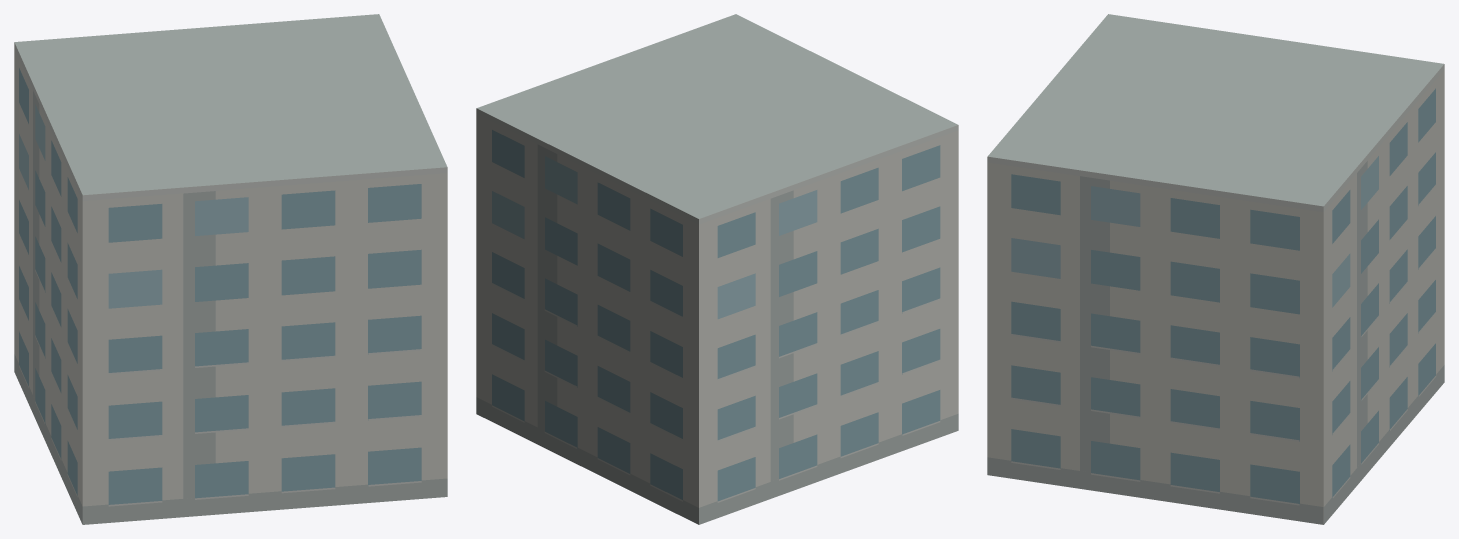
Rendered from survey-upis-32851047.glb.
3 renders of one model, left to right at view 1: azimuth 30°, elevation 25°; view 2: azimuth 150°, elevation 25°; view 3: azimuth 270°, elevation 25°, orthographic. The views are drawn at different scales.
Visible parts, largest first — view 1: survey-upis-32851047.tmp; view 2: survey-upis-32851047.tmp; view 3: survey-upis-32851047.tmp.
Part boxes in pixels (x1,y1,x2,y2): survey-upis-32851047.tmp: [14, 14, 447, 524]; survey-upis-32851047.tmp: [476, 14, 958, 524]; survey-upis-32851047.tmp: [987, 14, 1444, 524].
Bounding box in the file's own units: 17.31 × 13.35 × 17.37.
